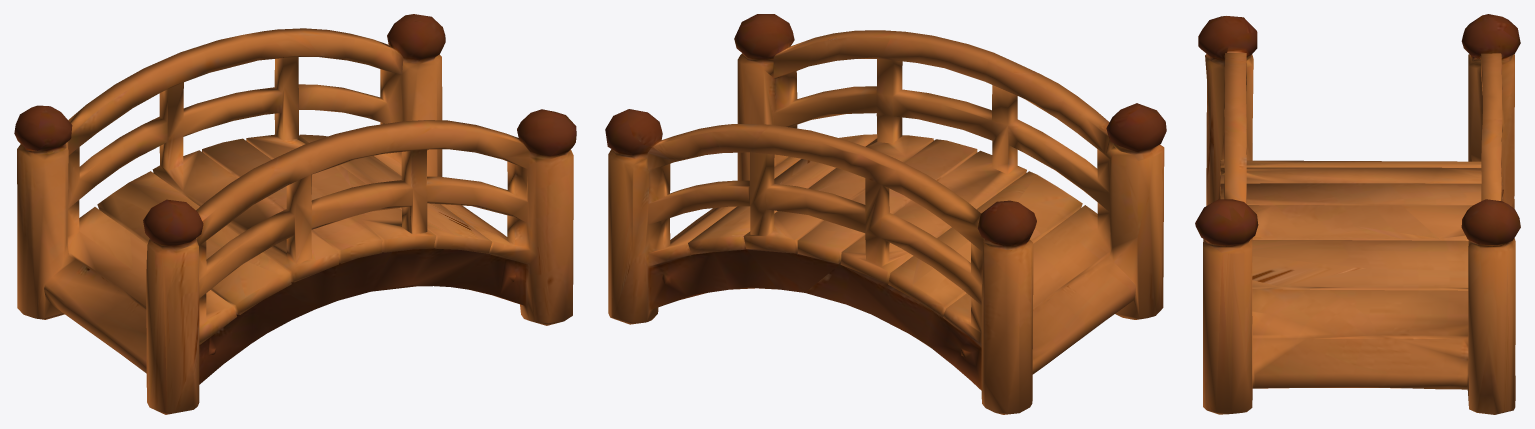
File: pondbridge.glb
The picture shows the model from 3 angles, left to right: view 1: azimuth 30°, elevation 25°; view 2: azimuth 150°, elevation 25°; view 3: azimuth 270°, elevation 25°; orthographic projection.
Visible parts, largest first — view 1: model; view 2: model; view 3: model.
Boxes of the visible parts, x1,y1,x2,y2 form: model: [14, 14, 576, 414]; model: [605, 14, 1166, 414]; model: [1195, 14, 1520, 414].
Size of the model in its own units: 1.89 by 0.9601 by 1.25.
Materials: 1 (1 with a texture image).
